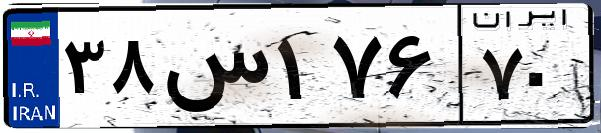0: (525, 38, 570, 115)
1: (270, 28, 330, 110)
3: (57, 26, 110, 100)
6: (385, 28, 445, 110)
7: (330, 28, 385, 110), (475, 38, 525, 113)
8: (110, 28, 158, 98)
س: (158, 20, 270, 120)
